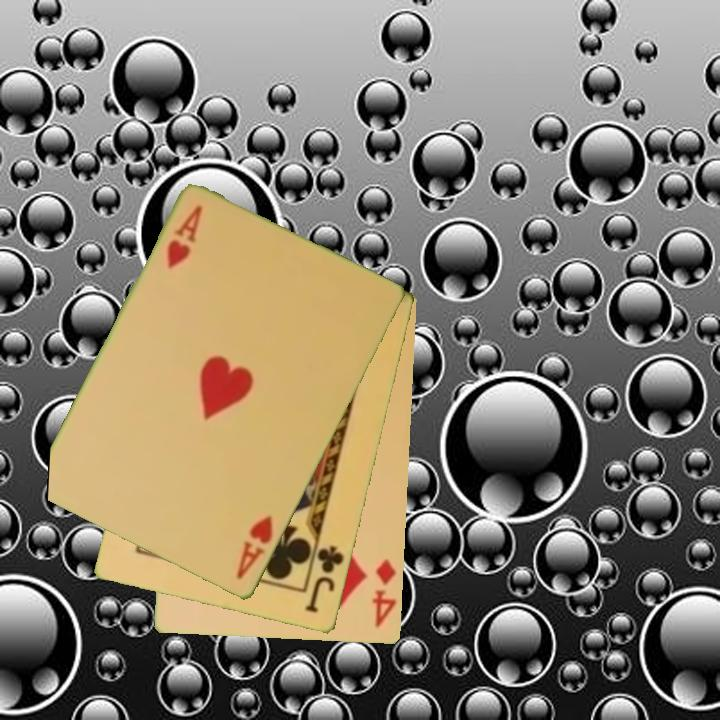4d: (369, 556, 400, 631)
Ah: (233, 512, 276, 583), (163, 202, 206, 273)
Jc: (302, 542, 348, 617)
